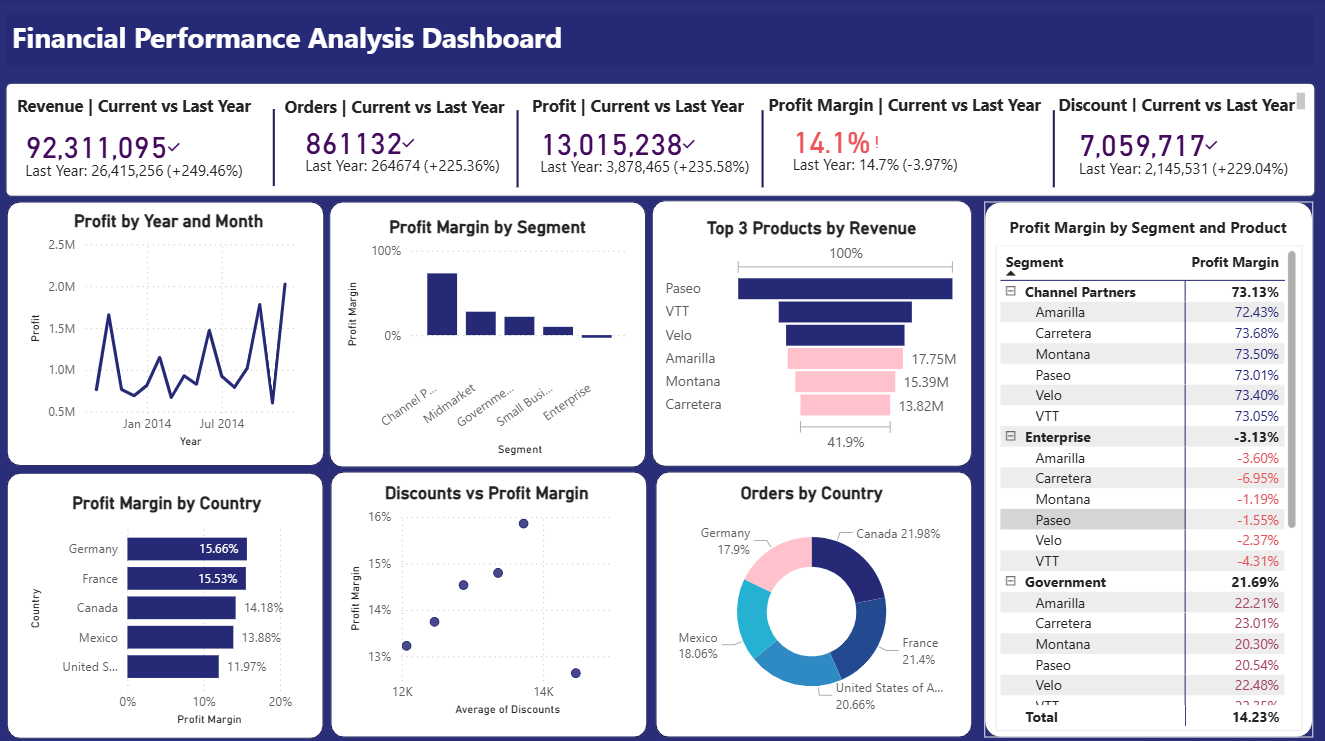

This screenshot's page, from the dashboard's own definition file:
{"tool":"powerbi","page":{"name":"Page 1","canvas":[1280,720],"ordinal":0},"visuals":[{"type":"shape","box":[631,194.2,309,257.3],"z":0,"group":"g8"},{"type":"shape","box":[8.4,195.4,306.5,255.2],"z":0,"group":"g6"},{"type":"shape","box":[319.7,195.4,305.7,256.8],"z":0,"group":"g7"},{"type":"shape","box":[951.9,195.4,317.3,517.6],"z":0,"group":"g10"},{"type":"shape","box":[320.9,456,305.7,256.8],"z":0,"group":"g9"},{"type":"shape","box":[634.6,456,305.7,256.8],"z":0,"group":"g4"},{"type":"shape","box":[8.2,456.9,305.7,256.8],"z":0,"group":"g5"},{"type":"lineChart","fields":{"Category":["Date.Date.Variation.Date Hierarchy.Year","Date.Date.Variation.Date Hierarchy.Month"],"Y":["Analysis.Profit"]},"box":[25.1,203.8,278.8,234.4],"z":1000,"group":"g6"},{"type":"clusteredColumnChart","title":"Profit Margin by Segment","fields":{"Category":["Financials.Segment"],"Y":["Analysis.Profit Margin"]},"box":[332.1,209.4,281.6,236.2],"z":1000,"group":"g7"},{"type":"pivotTable","title":"Profit Margin by Segment and Product","fields":{"Rows":["Financials.Segment","Financials.Product"],"Values":["Analysis.Profit Margin"]},"box":[962.8,237.6,295.6,469.3],"z":1000,"group":"g10"},{"type":"scatterChart","title":" Discounts vs Profit Margin ","fields":{"Category":["Financials.Product"],"X":["Avg(Financials.Discounts)"],"Y":["Analysis.Profit Margin"]},"box":[333.9,466.7,275.1,229.9],"z":1000,"group":"g9"},{"type":"donutChart","fields":{"Y":["Analysis.Orders"],"Category":["Financials.Country"]},"box":[647.6,466.7,275.1,229.9],"z":1000,"group":"g4"},{"type":"barChart","fields":{"Category":["Financials.Country"],"Y":["Analysis.Profit Margin"]},"box":[24.7,476.7,275.1,229.9],"z":1000,"group":"g5"},{"type":"textbox","box":[8.4,13.3,1260.7,53.1],"z":2000},{"type":"group","id":"g1","title":"Group 2","box":[7,80.8,1264.2,110.1],"z":2000,"group":"g2"},{"type":"textbox","box":[962.8,205.1,294.4,32.6],"z":2000,"group":"g10"},{"type":"shape","box":[7,80.8,1264.2,110.1],"z":2500,"group":"g1"},{"type":"group","id":"g2","title":"Group 3","box":[7,80.8,1264.3,109.8],"z":3000},{"type":"textbox","box":[13.2,86.9,253.1,39.1],"z":3000,"group":"g2"},{"type":"kpi","fields":{"Indicator":["Analysis.Total Revenue"],"TrendLine":["Date.Year"],"Goal":["Analysis.Total Revenue Last Year"]},"box":[12.8,120.4,233.8,64.6],"z":3000,"group":"g3"},{"type":"group","id":"g3","title":"Group 1","box":[12.8,120.4,233.8,64.6],"z":3001,"group":"g1"},{"type":"kpi","fields":{"TrendLine":["Date.Year"],"Goal":["Analysis.Orders Last Year"],"Indicator":["Analysis.Orders"]},"box":[283.6,116.3,209.9,64.8],"z":4000,"group":"g2"},{"type":"group","id":"g4","title":"Group 4","box":[634.6,456,305.2,257],"z":4000},{"type":"shape","box":[257.6,106.5,16,74.6],"z":5000,"group":"g2"},{"type":"group","id":"g5","title":"Group 4","box":[8.2,456.9,306,256.6],"z":5000},{"type":"kpi","fields":{"TrendLine":["Date.Year"],"Indicator":["Analysis.Profit"],"Goal":["Analysis.Profit Last Year"]},"box":[509.5,117.5,228.4,64.8],"z":6000,"group":"g2"},{"type":"group","id":"g6","title":"Group 4","box":[8.4,195.4,306.4,254.6],"z":6000},{"type":"kpi","fields":{"TrendLine":["Date.Year"],"Indicator":["Analysis.Profit Margin"],"Goal":["Analysis.Profit Margin Last Year"]},"box":[753.9,115,235.8,64.8],"z":7000,"group":"g2"},{"type":"group","id":"g7","title":"Group 4","box":[319.7,195.4,305.2,257],"z":7000},{"type":"kpi","fields":{"TrendLine":["Date.Year"],"Indicator":["Analysis.Total Discount Offered"],"Goal":["Analysis.Discount Offered Last Year"]},"box":[1030.5,118.7,235.8,64.8],"z":8000,"group":"g2"},{"type":"group","id":"g8","title":"Group 4","box":[631,194.2,308.8,257],"z":8000},{"type":"textbox","box":[271.8,88.1,235.8,37.9],"z":9000,"group":"g2"},{"type":"funnel","title":"Top 3 Products by Revenue","fields":{"Category":["Financials.Product"],"Y":["Analysis.Total Revenue"]},"box":[639.4,211.1,292,230.4],"z":9000},{"type":"textbox","box":[510,87.4,225.9,40.4],"z":10000,"group":"g2"},{"type":"group","id":"g9","title":"Group 4","box":[320.9,456,305.2,257],"z":10000},{"type":"textbox","box":[738.4,85.6,290.1,40.4],"z":11000,"group":"g2"},{"type":"group","id":"g10","title":"Group 5","box":[951.9,195.4,317.3,517.6],"z":11002},{"type":"textbox","box":[1017.5,86.2,248.2,28.1],"z":12000,"group":"g2"},{"type":"shape","box":[493.4,107.7,16,74.6],"z":13000,"group":"g2"},{"type":"shape","box":[729.2,107.7,16,74.6],"z":14000,"group":"g2"},{"type":"shape","box":[1010.7,107.7,16,74.6],"z":15000,"group":"g2"}]}

Visuals, with their boxes in screenshot pixels (x1, y1, x2, y2), scaled from the page's 1280x720 canvas onto the 1325x741 screenshot:
shape: region(653, 200, 973, 465)
shape: region(9, 201, 326, 464)
shape: region(331, 201, 647, 465)
shape: region(985, 201, 1314, 734)
shape: region(332, 469, 649, 734)
shape: region(657, 469, 973, 734)
shape: region(8, 470, 325, 735)
lineChart - Date.Date.Variation.Date Hierarchy.Year x Date.Date.Variation.Date Hierarchy.Month: region(26, 210, 315, 451)
"Profit Margin by Segment" clusteredColumnChart: region(344, 216, 635, 459)
"Profit Margin by Segment and Product" pivotTable: region(997, 245, 1303, 728)
" Discounts vs Profit Margin " scatterChart: region(346, 480, 630, 717)
donutChart - Analysis.Orders x Financials.Country: region(670, 480, 955, 717)
barChart - Financials.Country x Analysis.Profit Margin: region(26, 491, 310, 727)
textbox: region(9, 14, 1314, 68)
"Group 2" group: region(7, 83, 1316, 196)
textbox: region(997, 211, 1301, 245)
shape: region(7, 83, 1316, 196)
"Group 3" group: region(7, 83, 1316, 196)
textbox: region(14, 89, 276, 130)
kpi - Analysis.Total Revenue x Date.Year: region(13, 124, 255, 190)
"Group 1" group: region(13, 124, 255, 190)
kpi - Date.Year x Analysis.Orders Last Year: region(294, 120, 511, 186)
"Group 4" group: region(657, 469, 973, 734)
shape: region(267, 110, 283, 186)
"Group 4" group: region(8, 470, 325, 734)
kpi - Date.Year x Analysis.Profit: region(527, 121, 764, 188)
"Group 4" group: region(9, 201, 326, 463)
kpi - Date.Year x Analysis.Profit Margin: region(780, 118, 1024, 185)
"Group 4" group: region(331, 201, 647, 466)
kpi - Date.Year x Analysis.Total Discount Offered: region(1067, 122, 1311, 189)
"Group 4" group: region(653, 200, 973, 464)
textbox: region(281, 91, 525, 130)
"Top 3 Products by Revenue" funnel: region(662, 217, 964, 454)
textbox: region(528, 90, 762, 132)
"Group 4" group: region(332, 469, 648, 734)
textbox: region(764, 88, 1065, 130)
"Group 5" group: region(985, 201, 1314, 734)
textbox: region(1053, 89, 1310, 118)
shape: region(511, 111, 527, 188)
shape: region(755, 111, 771, 188)
shape: region(1046, 111, 1063, 188)
